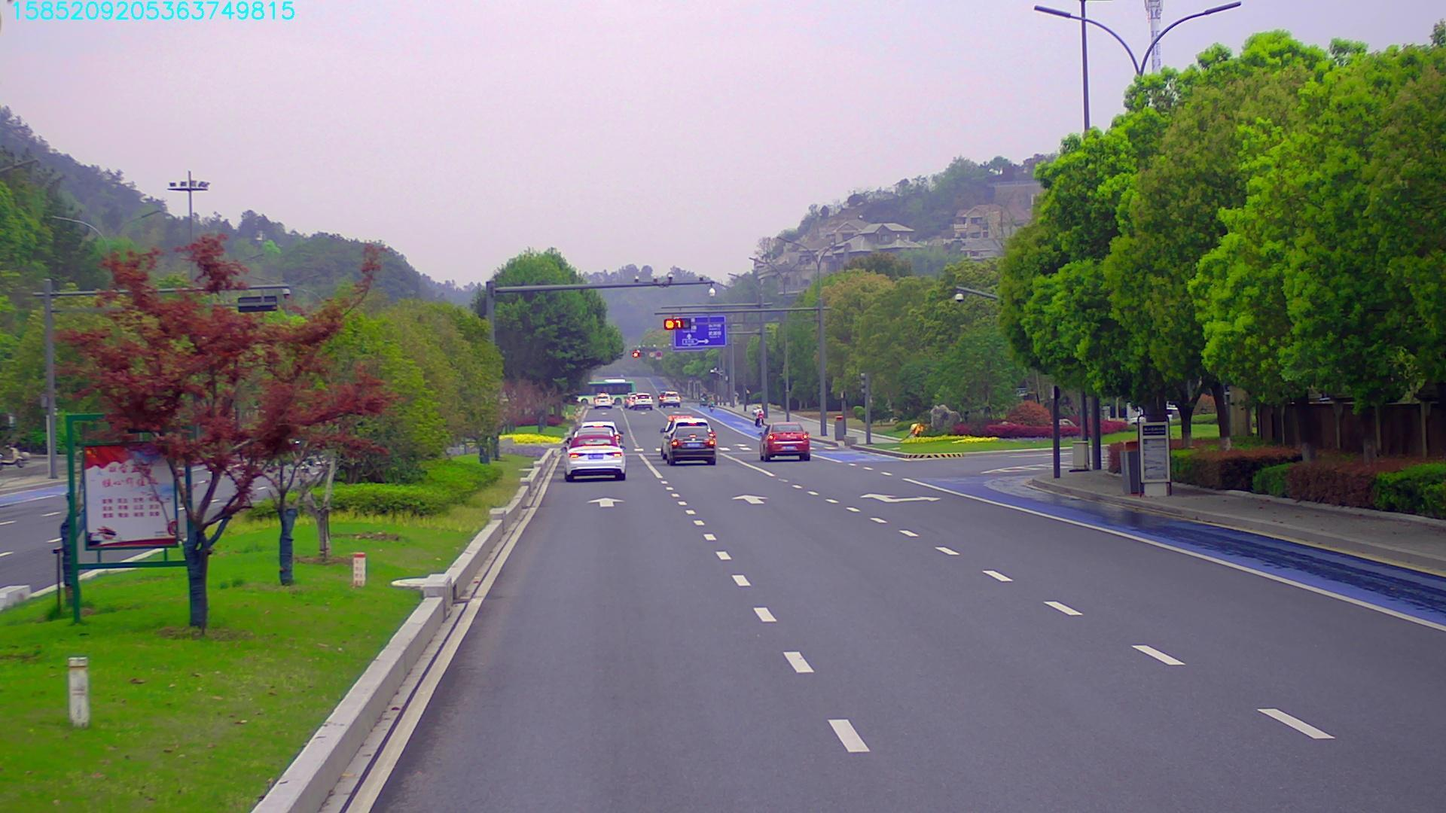red: (664, 315, 687, 328)
